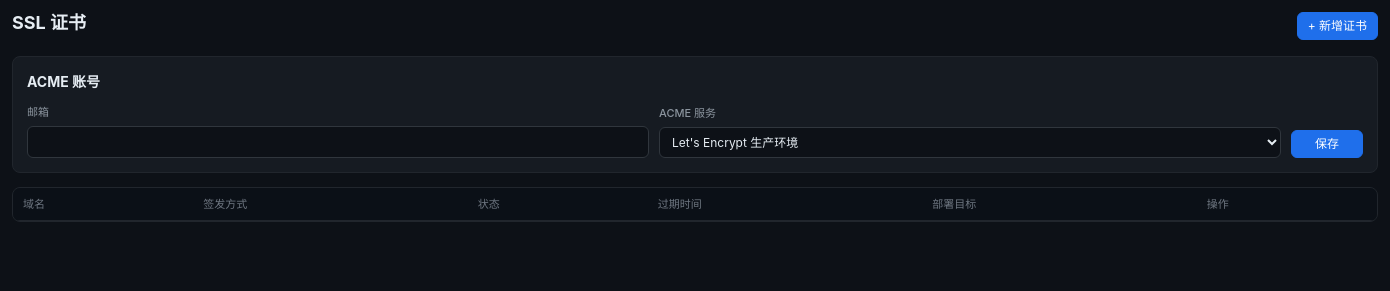
Test: CertificateTab › saves the ACME account
The width and height of the screenshot is (1390, 291).
Type "ops@example.com" into the field with test id "acme-email" at (338, 142), box [27, 126, 649, 158]
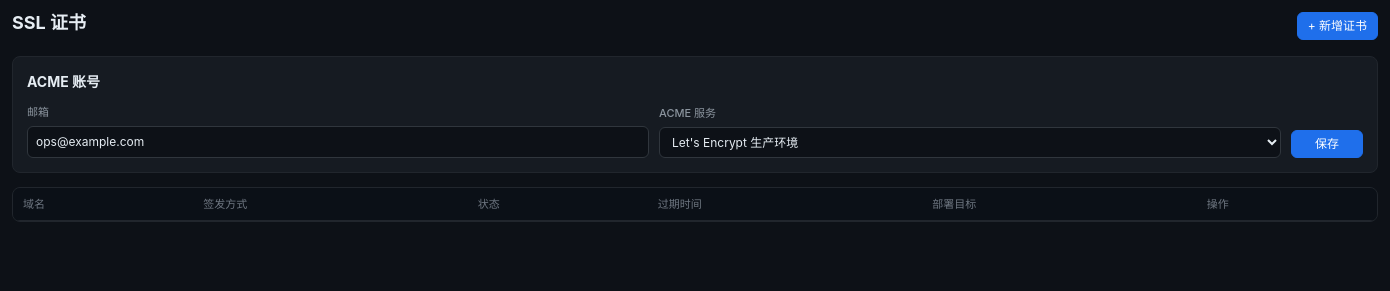
Click the button with test id "acme-save" at (1327, 144), box [1291, 130, 1363, 158]
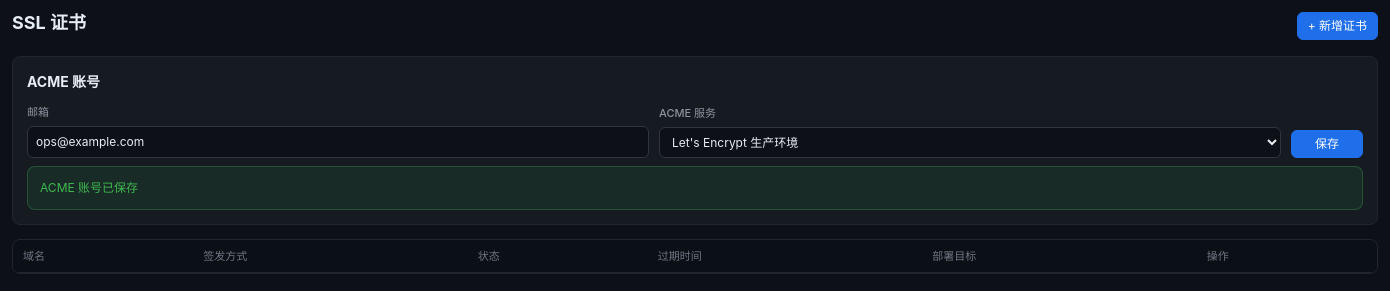
Check: the message with test id "acme-save-notice" reads "ACME 账号已保存", box [40, 180, 138, 194]
